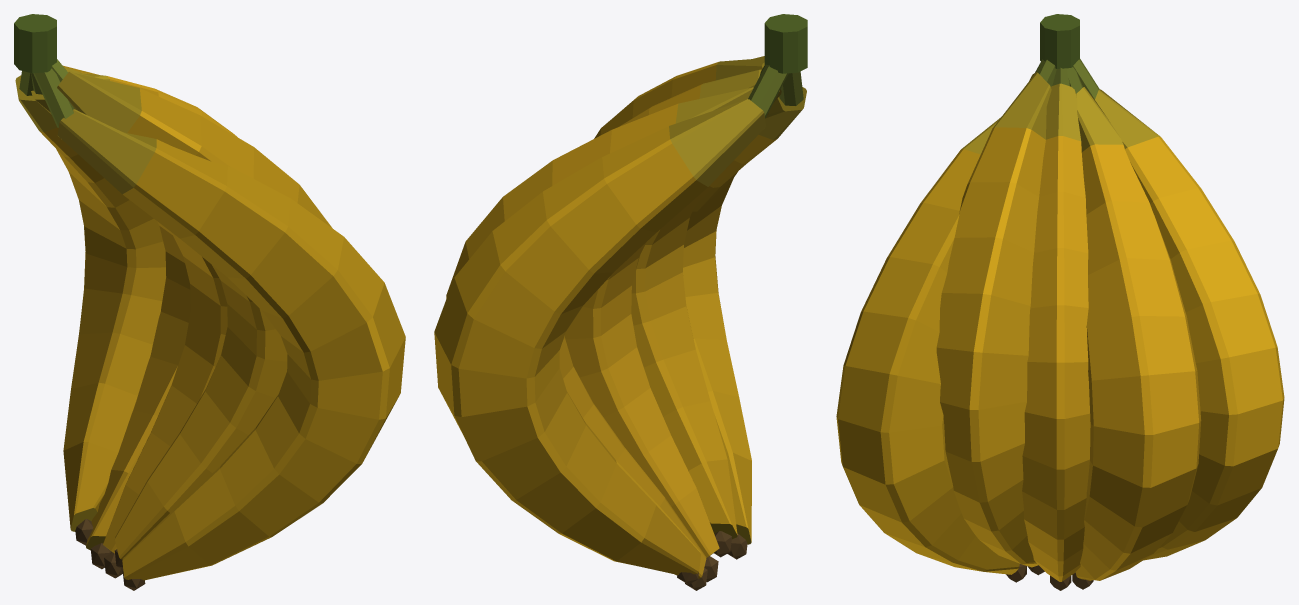
Rendered from banana.glb.
3 renders of one model, left to right at view 1: azimuth 30°, elevation 25°; view 2: azimuth 150°, elevation 25°; view 3: azimuth 270°, elevation 25°, orthographic. The views are drawn at different scales.
Visible parts, largest first — view 1: BananaMesh; view 2: BananaMesh; view 3: BananaMesh.
Part boxes in pixels (x1,y1,x2,y2): BananaMesh: [14, 14, 405, 590]; BananaMesh: [434, 14, 807, 590]; BananaMesh: [836, 14, 1284, 590].
Bounding box in the file's own units: 0.3695 × 0.6593 × 0.5026.
